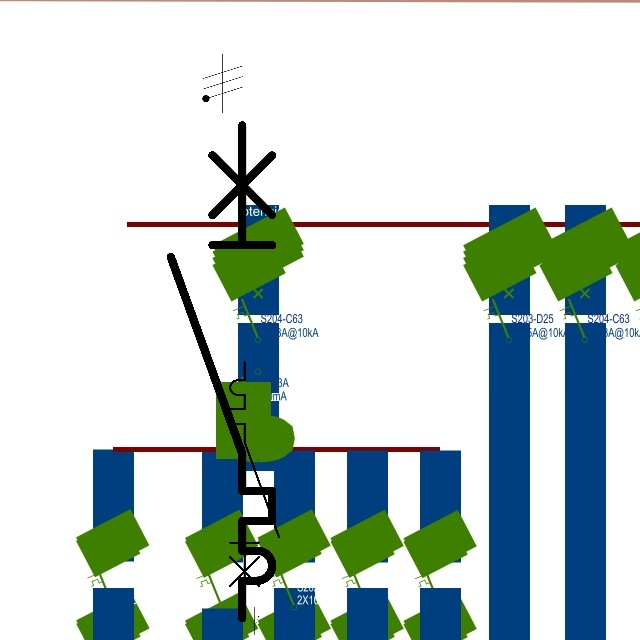interruptor_termomagnetico: (158, 112, 285, 631), (224, 356, 285, 606)
